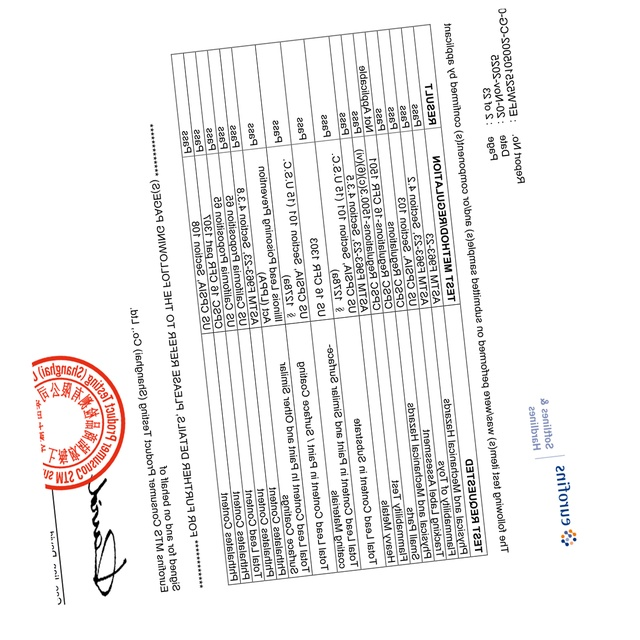eurofins: (549, 460, 581, 550)
